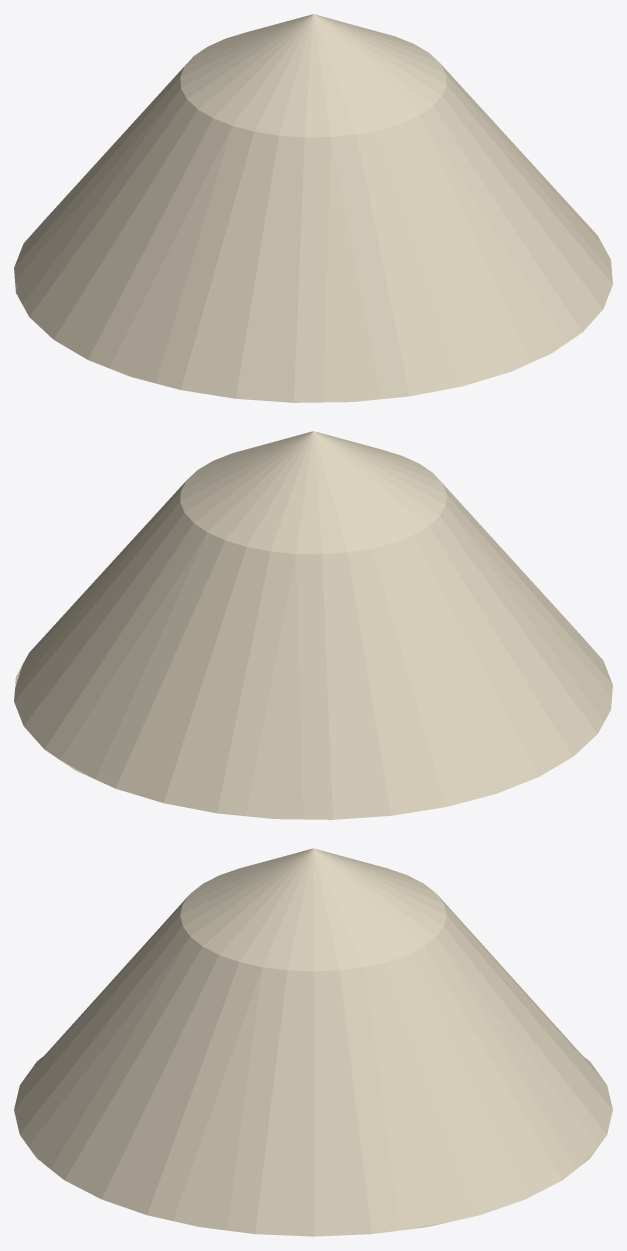
The model's file is salt.glb.
3 views of the same model, one above another, from view 1: azimuth 30°, elevation 25°; view 2: azimuth 150°, elevation 25°; view 3: azimuth 270°, elevation 25° (orthographic).
Visible parts, largest first — view 1: Cone; view 2: Cone; view 3: Cone.
Part boxes in pixels (x1=…): Cone: x1=14, y1=14, x2=612, y2=402; Cone: x1=14, y1=431, x2=612, y2=819; Cone: x1=14, y1=848, x2=612, y2=1236.
Bounding box in the file's own units: 2.06 × 0.9939 × 2.06.
